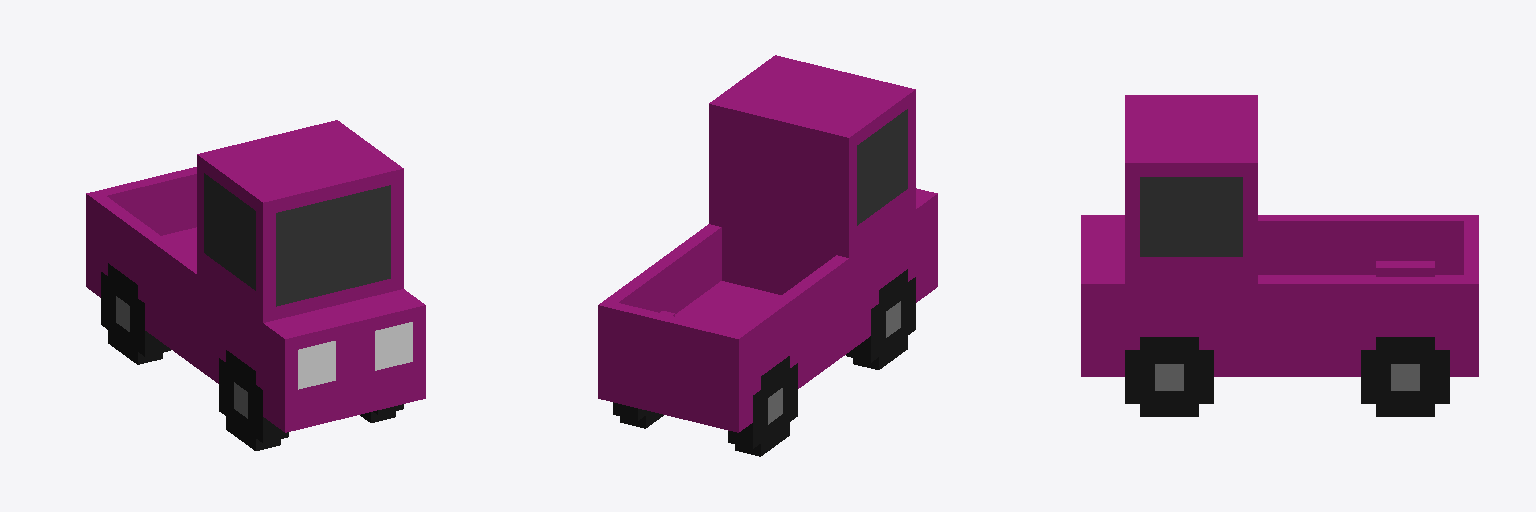
3 renders of one model, left to right at view 1: azimuth 30°, elevation 25°; view 2: azimuth 150°, elevation 25°; view 3: azimuth 270°, elevation 25°, orthographic.
Visible parts, largest first — view 1: pickuptruck_purple; view 2: pickuptruck_purple; view 3: pickuptruck_purple.
Boxes of the visible parts, x1,y1,x2,y2 form: pickuptruck_purple: [86, 120, 425, 450]; pickuptruck_purple: [598, 55, 937, 456]; pickuptruck_purple: [1081, 95, 1478, 416].
Bounding box in the file's own units: 11 × 19 × 27.
Materials: 1 (1 with a texture image).